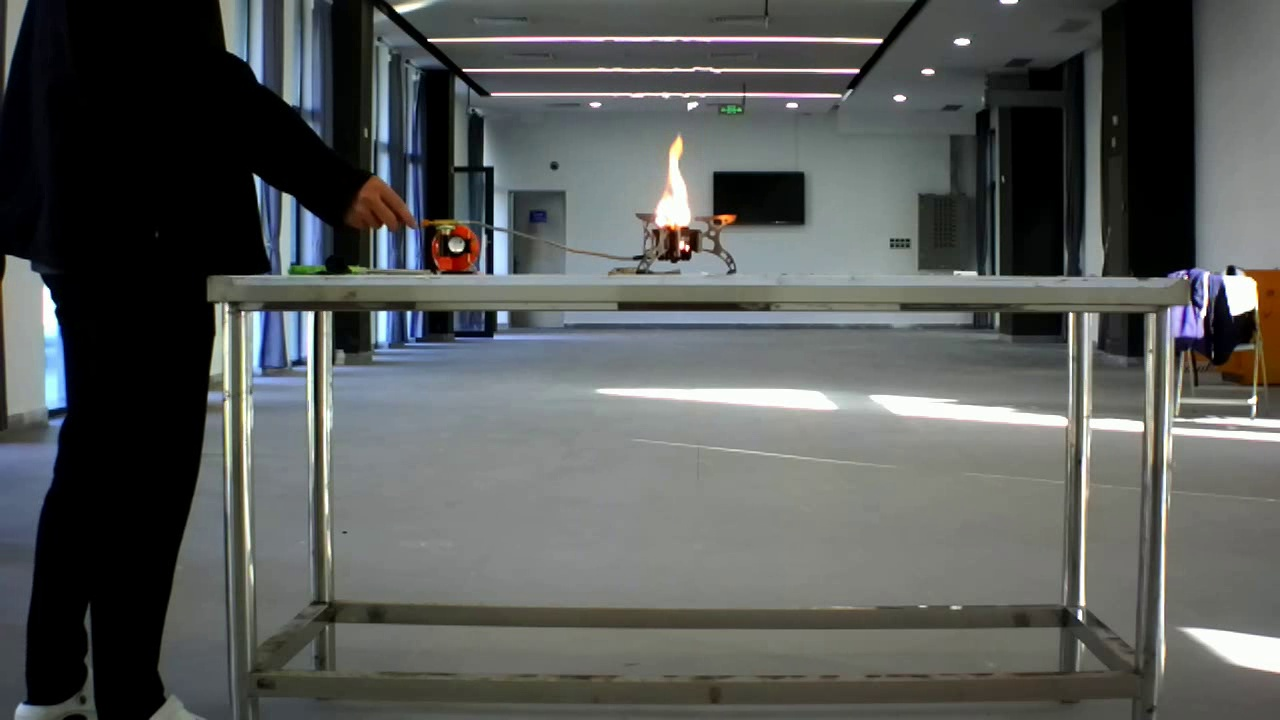Fire: (636, 126, 741, 264)
